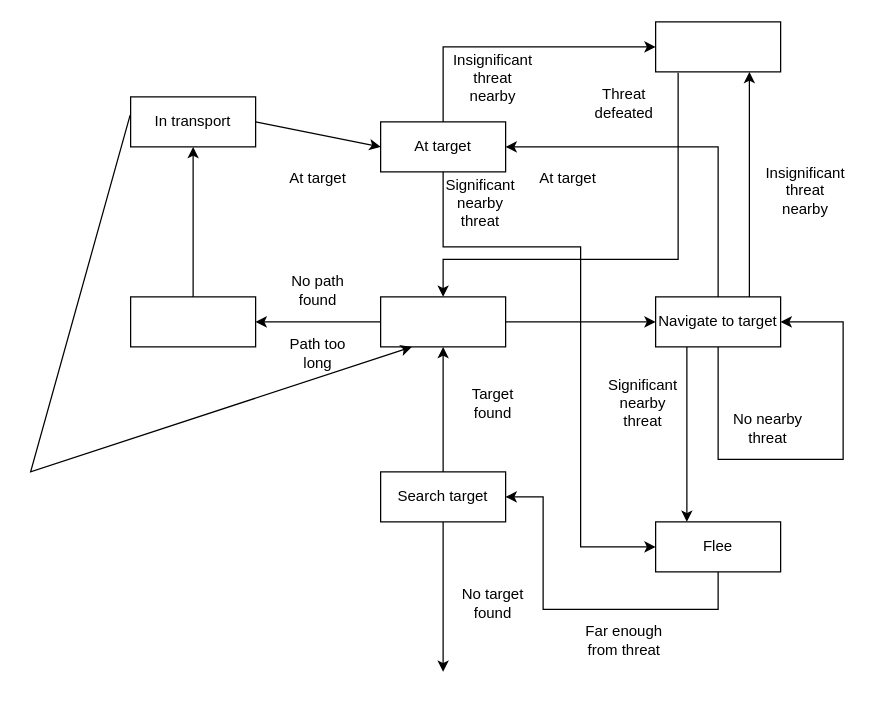
The diagram is 875 pixels wide and 704 high, and some of its shapes have lost their labels. Here are the shapes that lost their labels. From the top down, the centre of each, then its label:
[717,46]: Engage
[192,321]: Wait for transports
[442,321]: Find path to target
